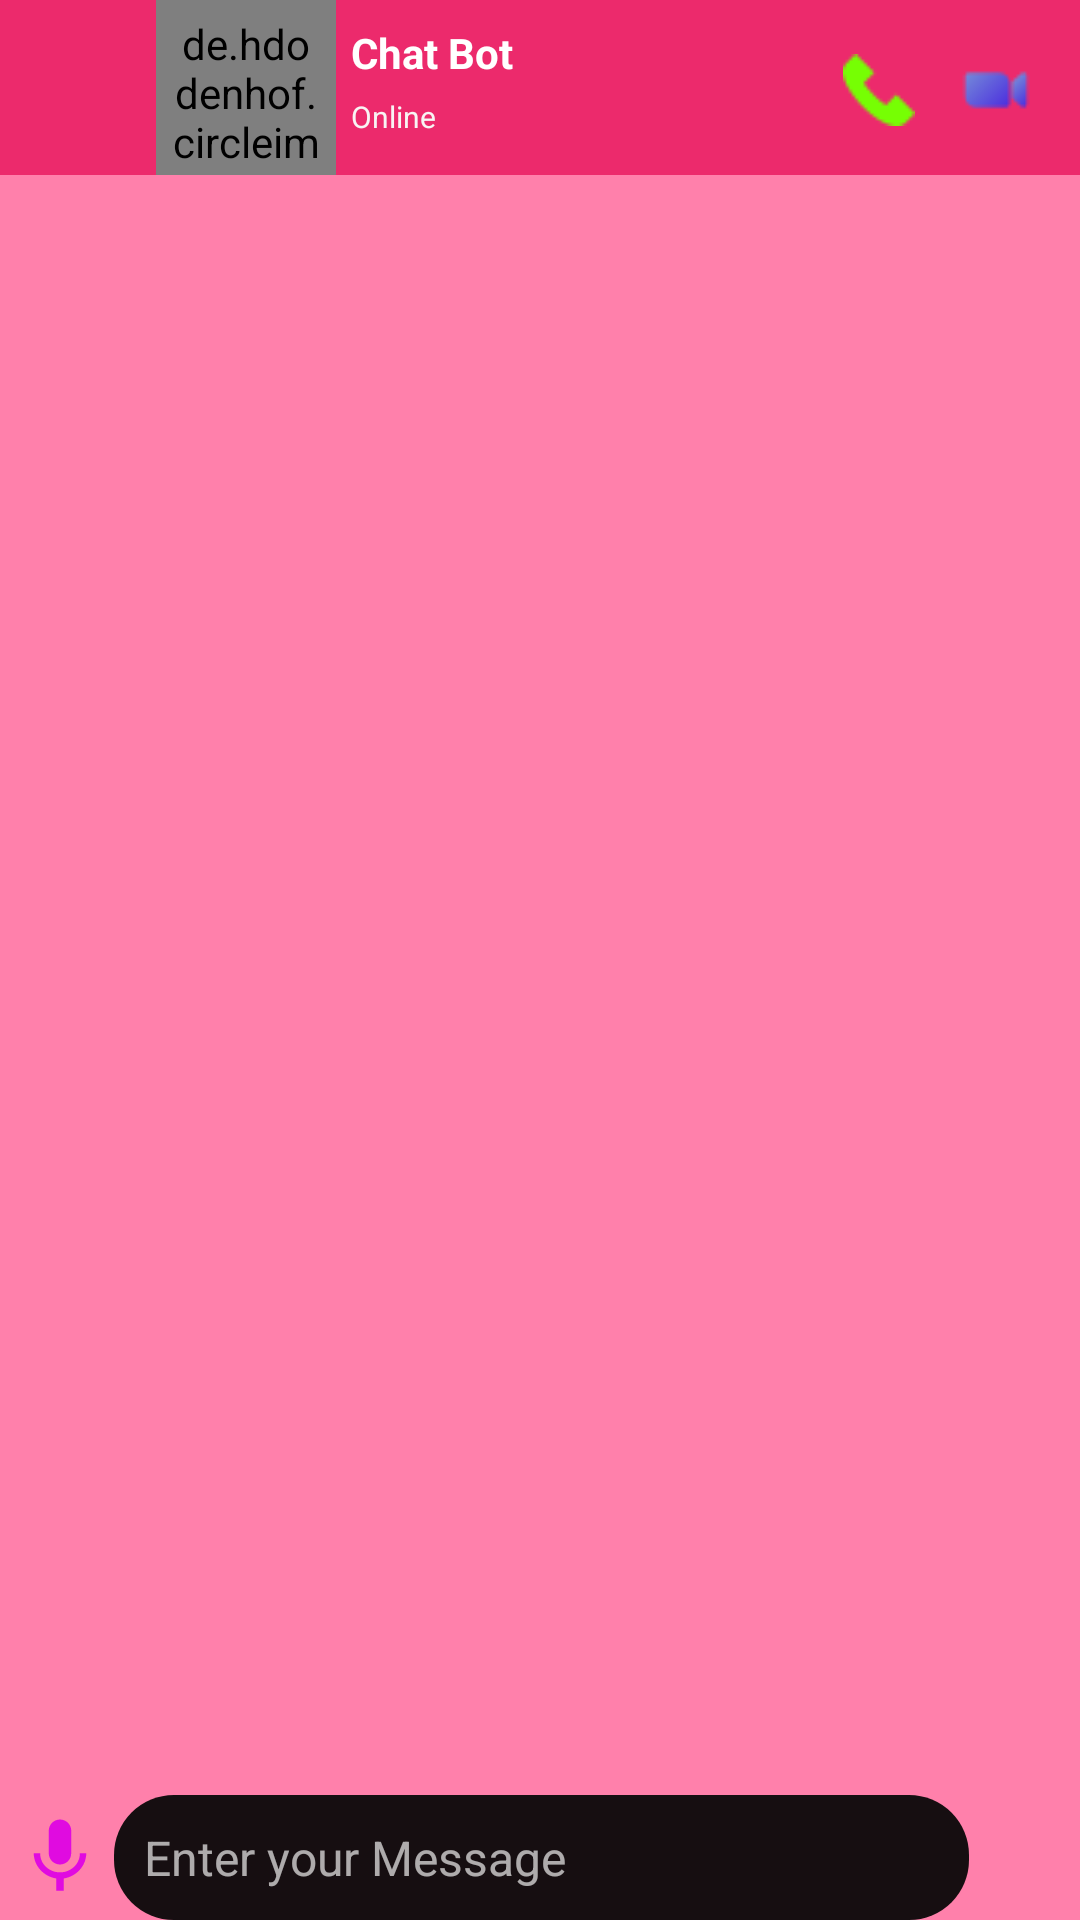

Icon click points for this 1080 x 1920 phone screenshot, format (x=x, y=y):
call: (x=879, y=90)
mic: (x=60, y=1855)
videocall: (x=996, y=90)
